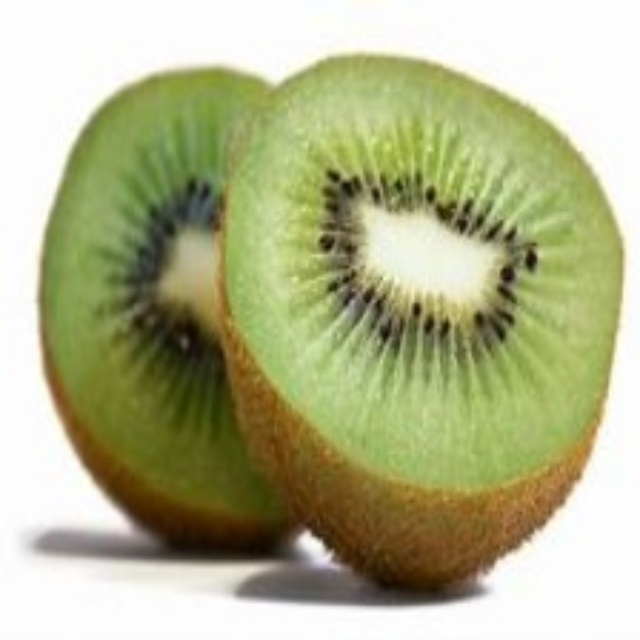kiwi: (231, 64, 609, 601), (51, 70, 316, 545)
